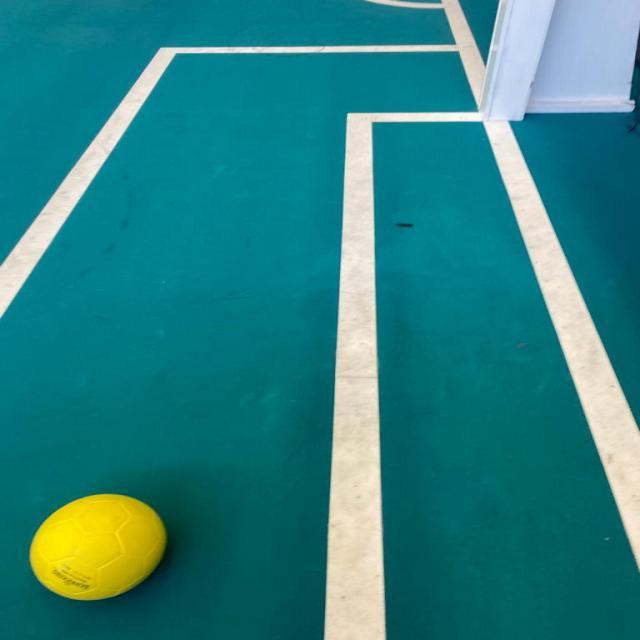ball: (17, 483, 178, 609)
